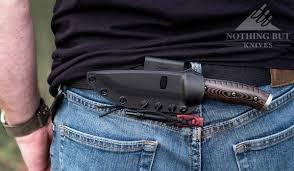Knife: (88, 70, 273, 109)
